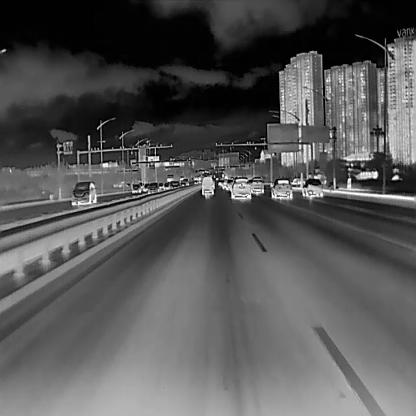bus: (164, 172, 174, 180), (179, 173, 183, 185)
car: (70, 180, 96, 204), (270, 178, 292, 199), (231, 176, 251, 199), (301, 178, 323, 197), (250, 176, 264, 193), (200, 176, 213, 194), (290, 176, 304, 188), (147, 182, 158, 193), (130, 182, 140, 192), (163, 180, 169, 190), (227, 180, 232, 190), (222, 180, 226, 190)
